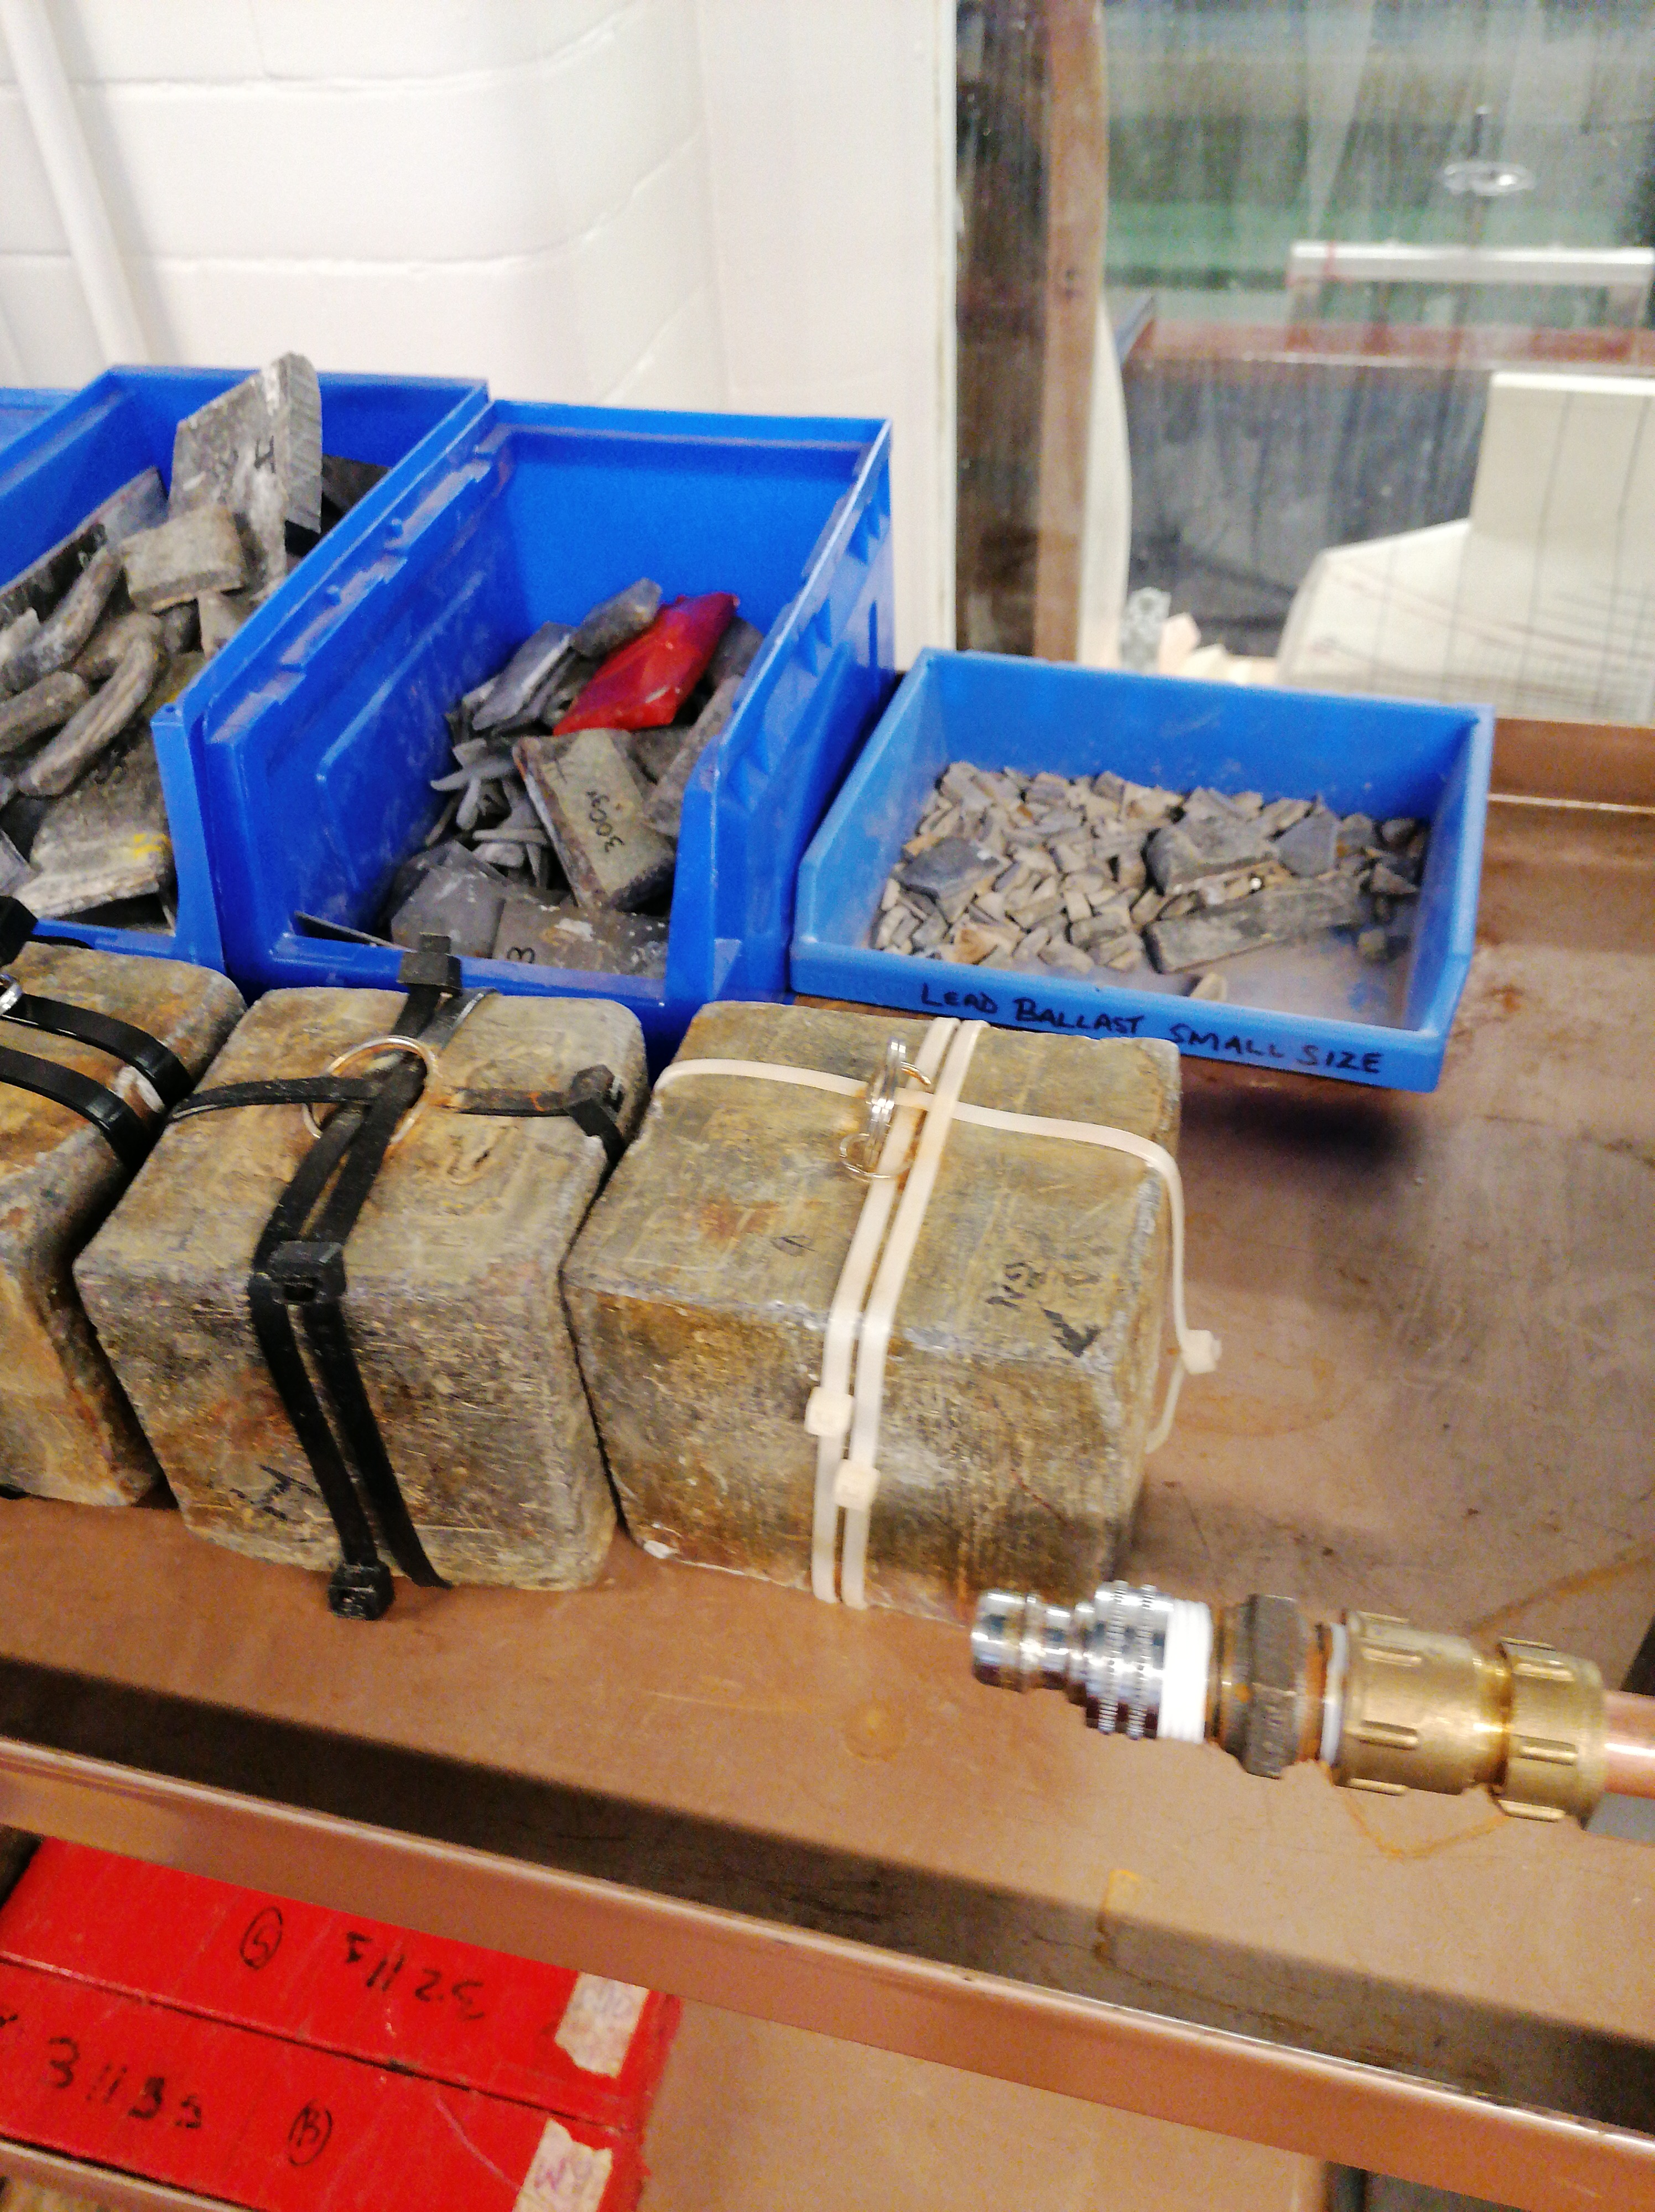lead_block: (560, 994, 1208, 1619), (80, 989, 640, 1642), (3, 911, 252, 1508)
